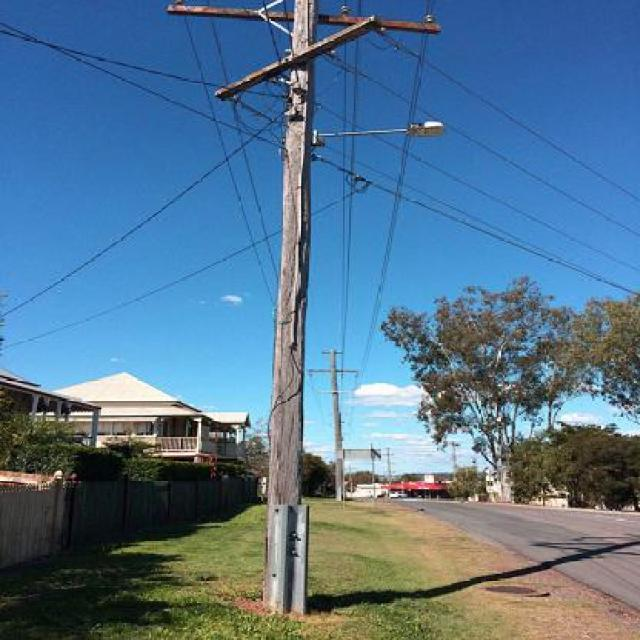non-critical vegetation: (164, 0, 400, 609)
